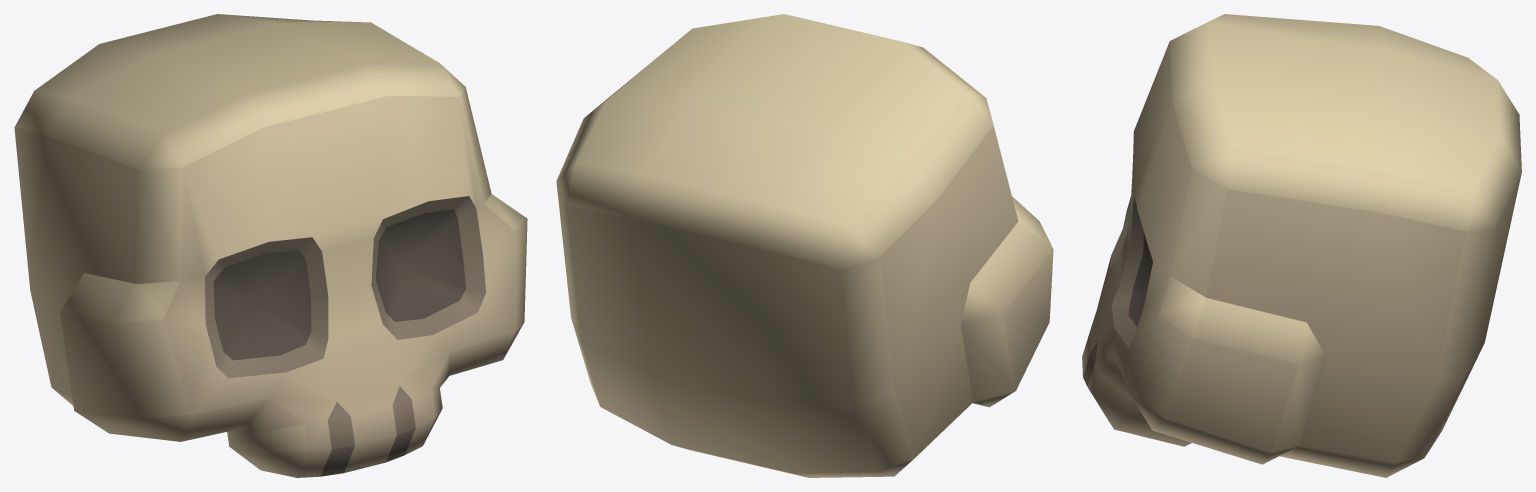
File: deco_skull_1.fbx
3 renders of one model, left to right at view 1: azimuth 30°, elevation 25°; view 2: azimuth 150°, elevation 25°; view 3: azimuth 270°, elevation 25°, orthographic. The views are drawn at different scales.
Visible parts, largest first — view 1: deco_skull_1; view 2: deco_skull_1; view 3: deco_skull_1.
Part boxes in pixels (<box>): deco_skull_1: <box>14,14,527,477</box>; deco_skull_1: <box>556,14,1053,477</box>; deco_skull_1: <box>1082,14,1521,477</box>.
Size of the model in its own units: 49.11 by 42.15 by 45.34.
